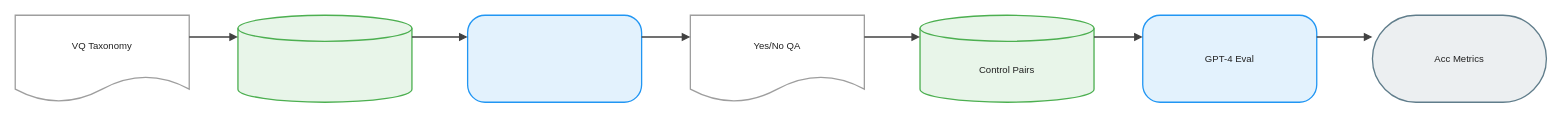
Some shapes in this 1563 by 118 pixel diagram are drawn without their labels. Each missing label, with the centre of its shape:
"346 Images" goes at [324,58].
"Human Edits" goes at [554,58].
